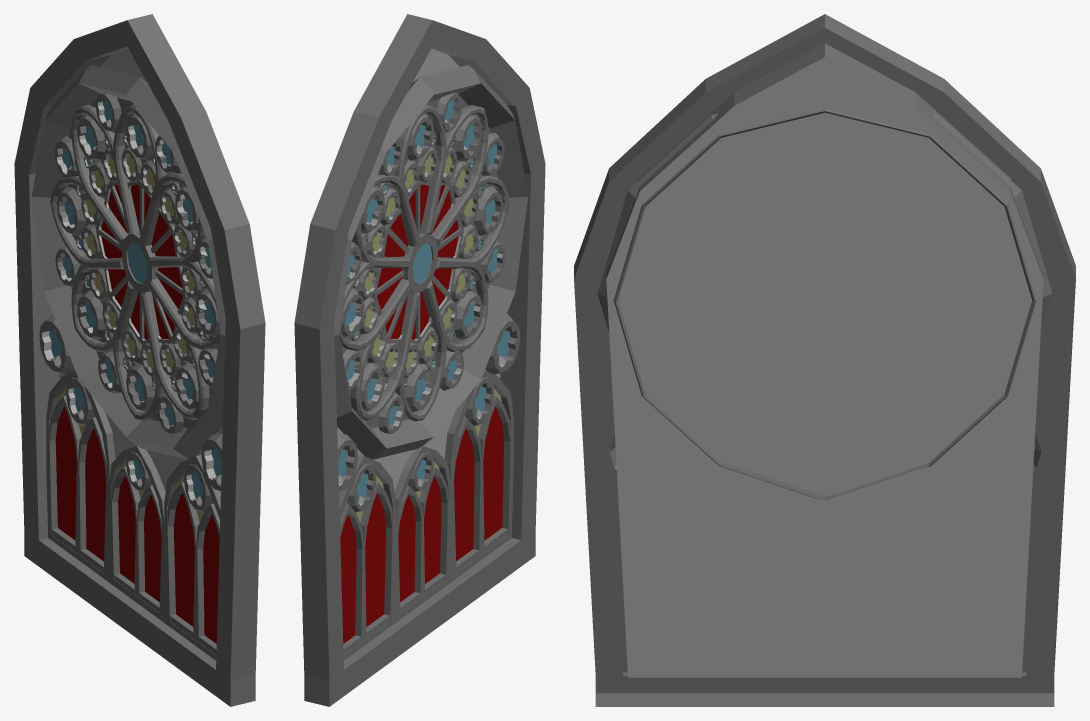
File: roseWindowUV.fbx
3 renders of one model, left to right at view 1: azimuth 30°, elevation 25°; view 2: azimuth 150°, elevation 25°; view 3: azimuth 270°, elevation 25°, orthographic. The views are drawn at different scales.
Visible parts, largest first — view 1: FINISHREOSE16; view 2: FINISHREOSE16; view 3: FINISHREOSE16.
Boxes of the visible parts, left/top/right/bottom form: FINISHREOSE16: left=14, top=14, right=265, bottom=706; FINISHREOSE16: left=294, top=14, right=545, bottom=706; FINISHREOSE16: left=574, top=14, right=1075, bottom=706.
Size of the model in its own units: 0.00457 by 0.0962 by 0.0644.
